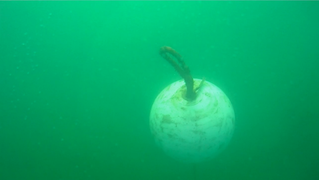buoy: (149, 77, 236, 165)
